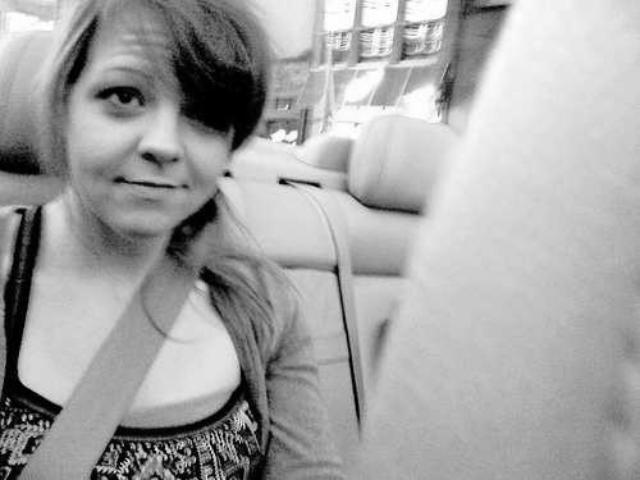SafeDriving: (86, 71, 156, 119)
Seatbelt: (12, 242, 200, 480)
